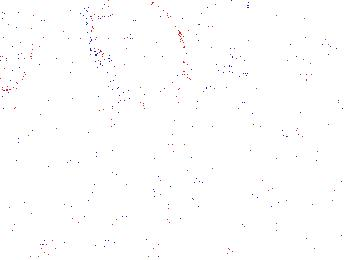moon jellyfish: (86, 1, 186, 106), (257, 123, 346, 219), (185, 1, 250, 89), (282, 36, 346, 100), (1, 1, 36, 90)
